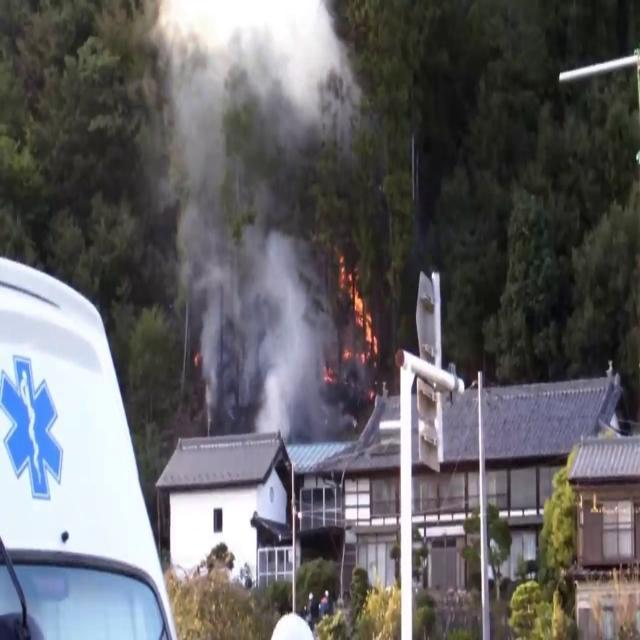Fire: (343, 267, 381, 373)
Smoke: (150, 0, 356, 450)
